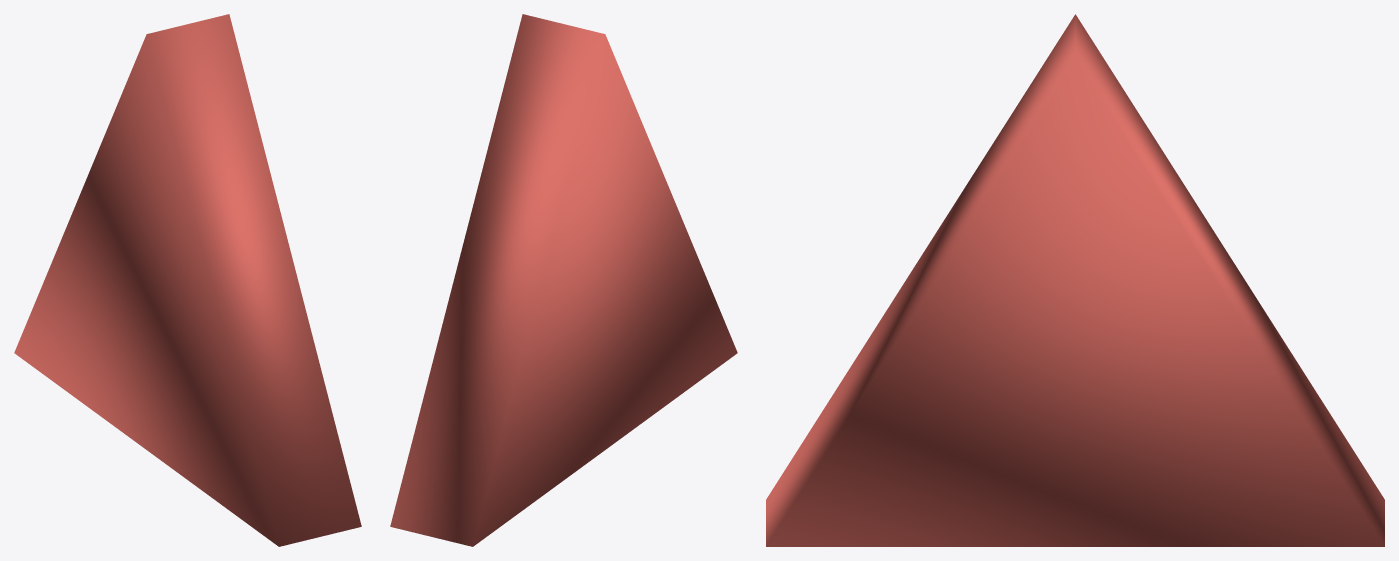
File: shape-triangle-red.glb
3 renders of one model, left to right at view 1: azimuth 30°, elevation 25°; view 2: azimuth 150°, elevation 25°; view 3: azimuth 270°, elevation 25°, orthographic. The views are drawn at different scales.
Visible parts, largest first — view 1: solid triangle; view 2: solid triangle; view 3: solid triangle.
Boxes of the visible parts, <box> form: solid triangle: <box>14,14,361,546</box>; solid triangle: <box>390,14,737,546</box>; solid triangle: <box>766,14,1384,546</box>.
Size of the model in its own units: 0.25 by 1.2 by 1.39.
